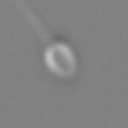normal: (12, 1, 56, 41)
